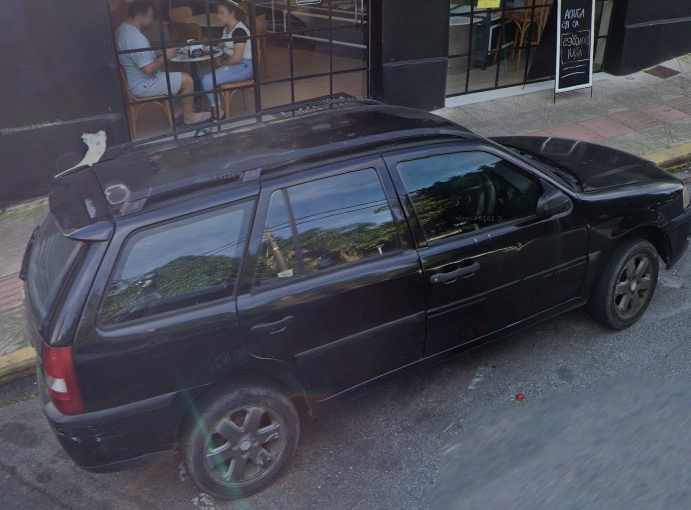car: (25, 100, 684, 500)
